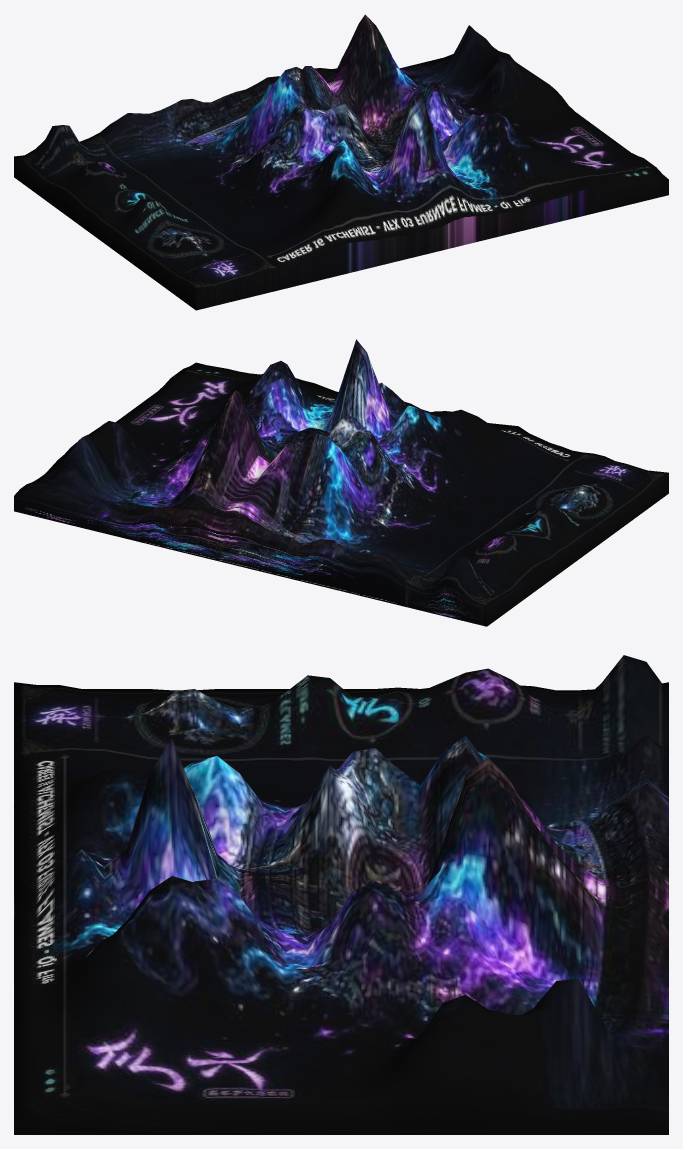
The model's file is CAREER_16_VFX_03_Flames.glb.
3 renders of one model, top to bottom at view 1: azimuth 30°, elevation 25°; view 2: azimuth 150°, elevation 25°; view 3: azimuth 270°, elevation 25°, orthographic. The views are drawn at different scales.
Visible parts, largest first — view 1: CAREER_16_VFX_03_Flames; view 2: CAREER_16_VFX_03_Flames; view 3: CAREER_16_VFX_03_Flames.
Boxes of the visible parts, x1=… form: CAREER_16_VFX_03_Flames: x1=14, y1=14, x2=668, y2=310; CAREER_16_VFX_03_Flames: x1=14, y1=339, x2=668, y2=626; CAREER_16_VFX_03_Flames: x1=14, y1=655, x2=668, y2=1134.
Bounding box in the file's own units: 2 × 0.51 × 1.33.
Materials: 1 (1 with a texture image).
